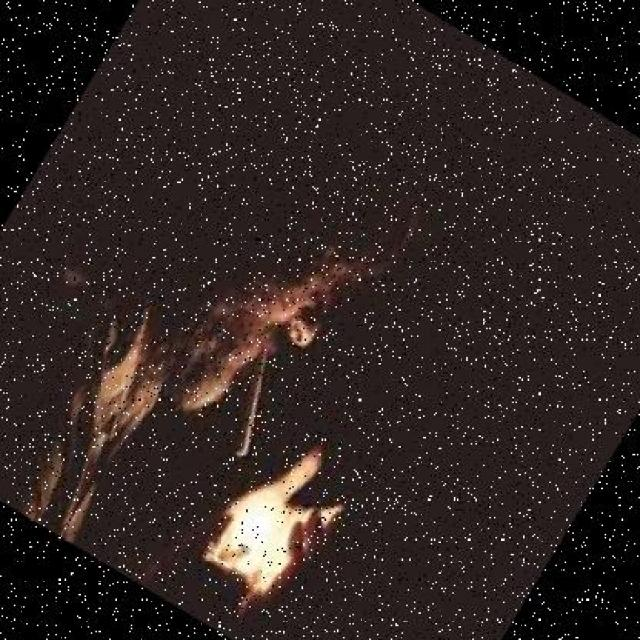fire: (220, 488, 291, 563)
